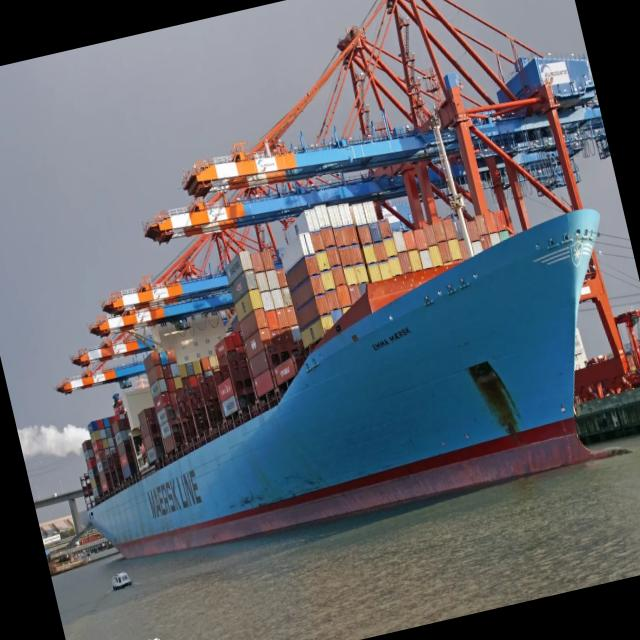Cargo: (82, 119, 597, 557)
